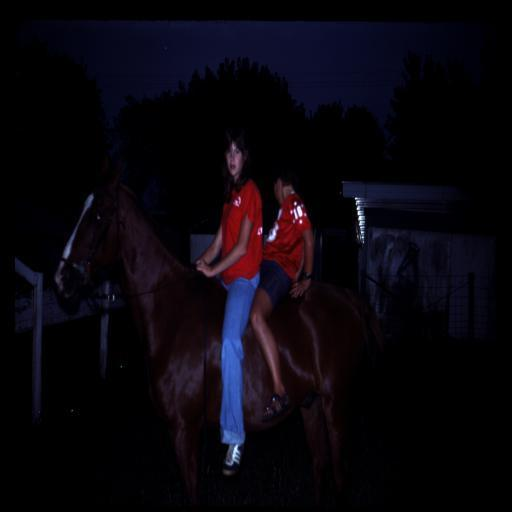horse: (56, 177, 334, 512)
